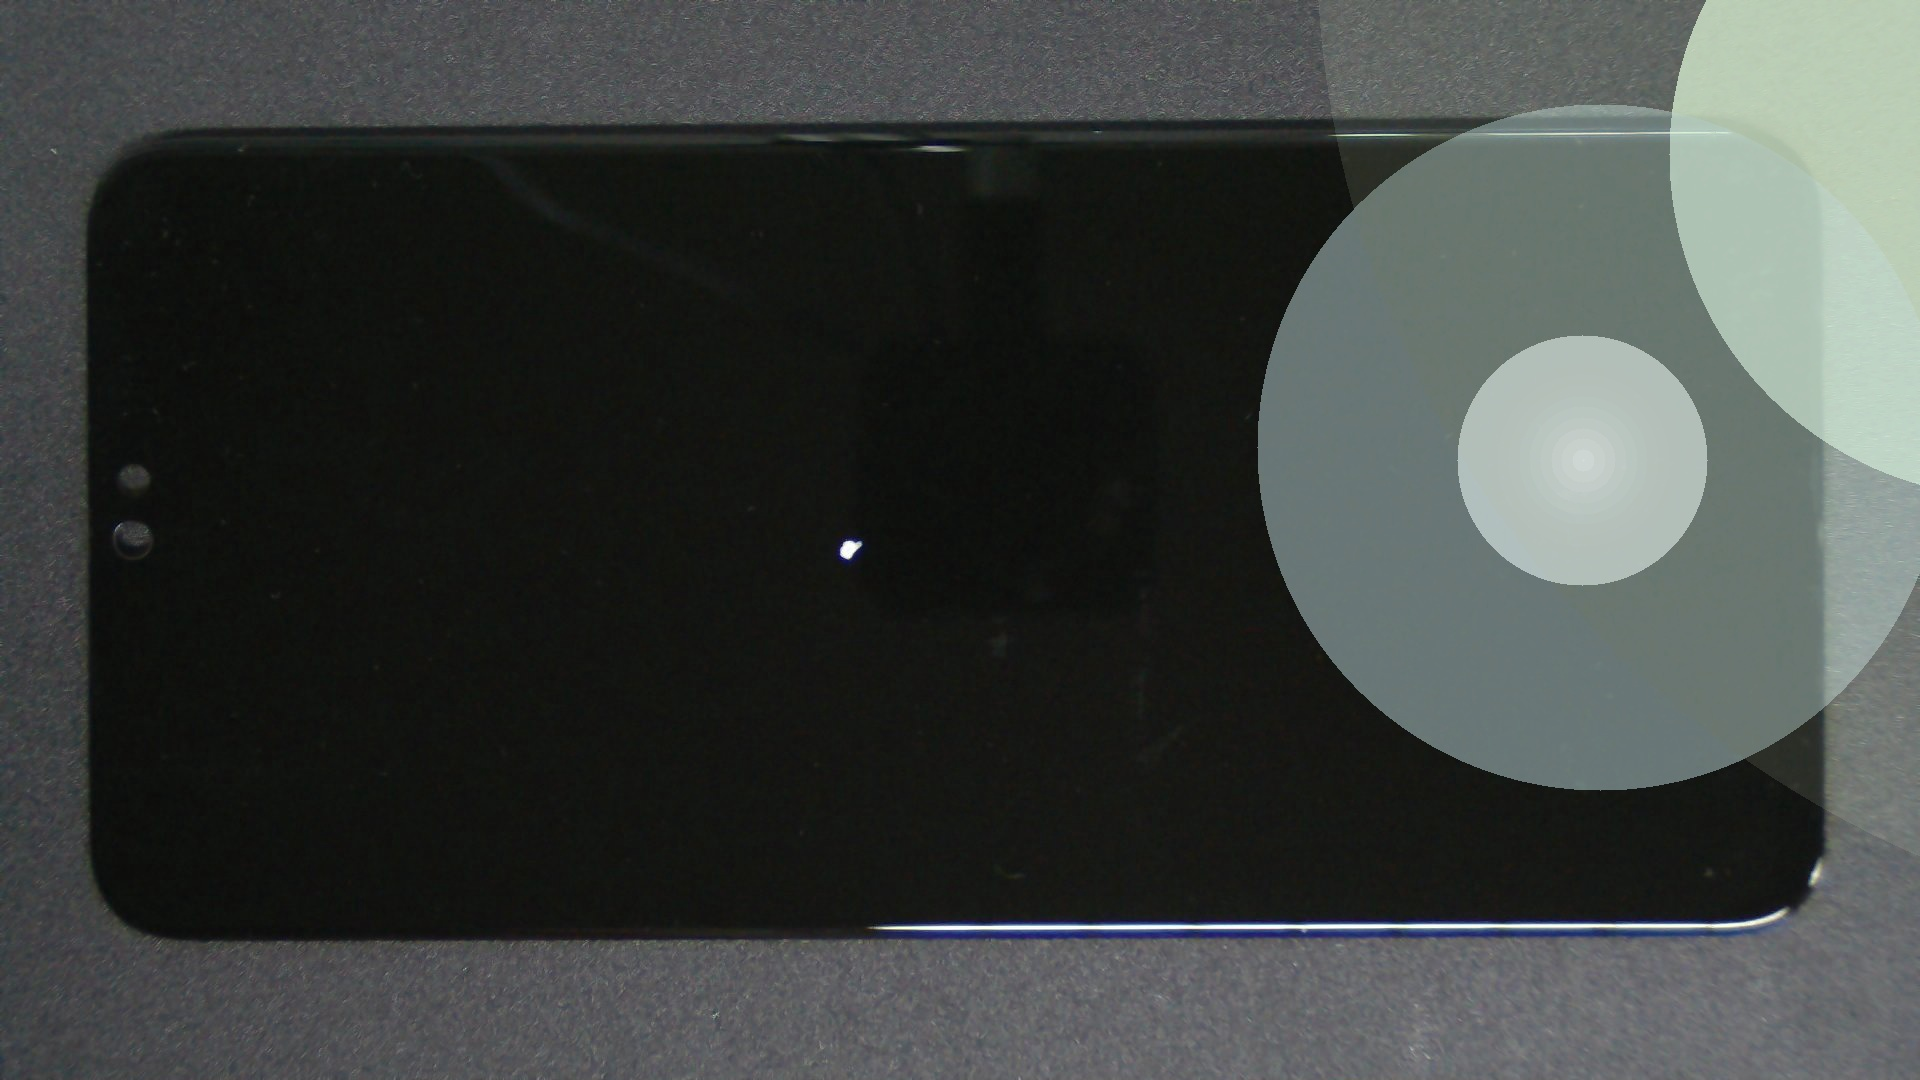oil: (425, 269, 1270, 808)
